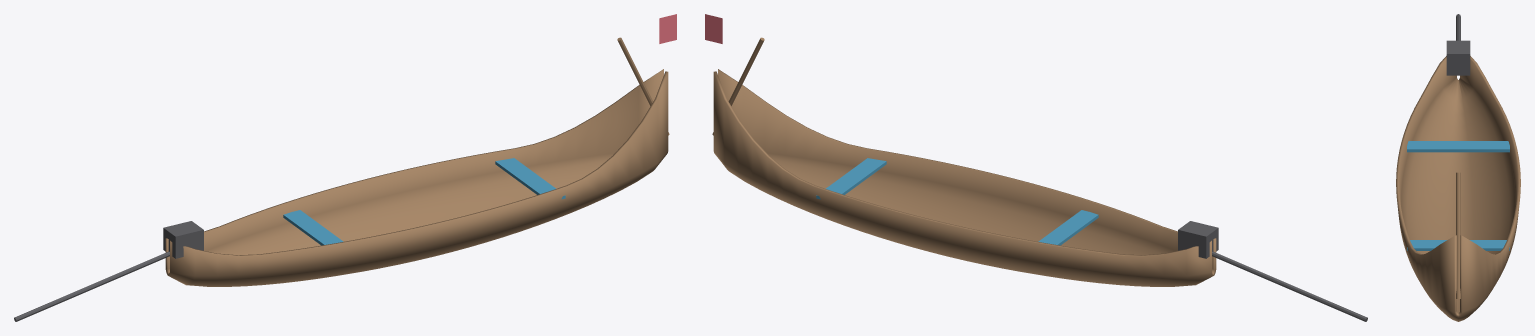
Rendered from boat.glb.
The picture shows the model from 3 angles, left to right: view 1: azimuth 30°, elevation 25°; view 2: azimuth 150°, elevation 25°; view 3: azimuth 270°, elevation 25°; orthographic projection. The views are drawn at different scales.
Visible parts, largest first — view 1: BoatHull, BoatEngine, BoatSeats2, BoatShaft, BoatSeats, BoatRibbons; view 2: BoatHull, BoatEngine, BoatSeats2, BoatShaft, BoatSeats, BoatRibbons; view 3: BoatHull, BoatSeats, BoatEngine, BoatSeats2, BoatPole, BoatShaft.
Part boxes in pixels (<box>): BoatHull: <box>165,69,668,286</box>; BoatEngine: <box>163,221,203,258</box>; BoatSeats2: <box>495,158,565,199</box>; BoatShaft: <box>14,251,169,321</box>; BoatSeats: <box>283,210,343,245</box>; BoatRibbons: <box>659,14,676,43</box>; BoatHull: <box>713,69,1216,286</box>; BoatEngine: <box>1178,221,1218,258</box>; BoatSeats2: <box>816,158,886,199</box>; BoatShaft: <box>1212,251,1367,321</box>; BoatSeats: <box>1038,210,1098,245</box>; BoatRibbons: <box>705,14,722,43</box>; BoatHull: <box>1396,56,1520,321</box>; BoatSeats: <box>1407,141,1509,152</box>; BoatEngine: <box>1446,40,1470,75</box>; BoatSeats2: <box>1407,240,1509,250</box>; BoatPole: <box>1456,172,1460,298</box>; BoatShaft: <box>1456,14,1460,40</box>.
Bounding box in the file's own units: 9.36 × 2.42 × 1.58.
